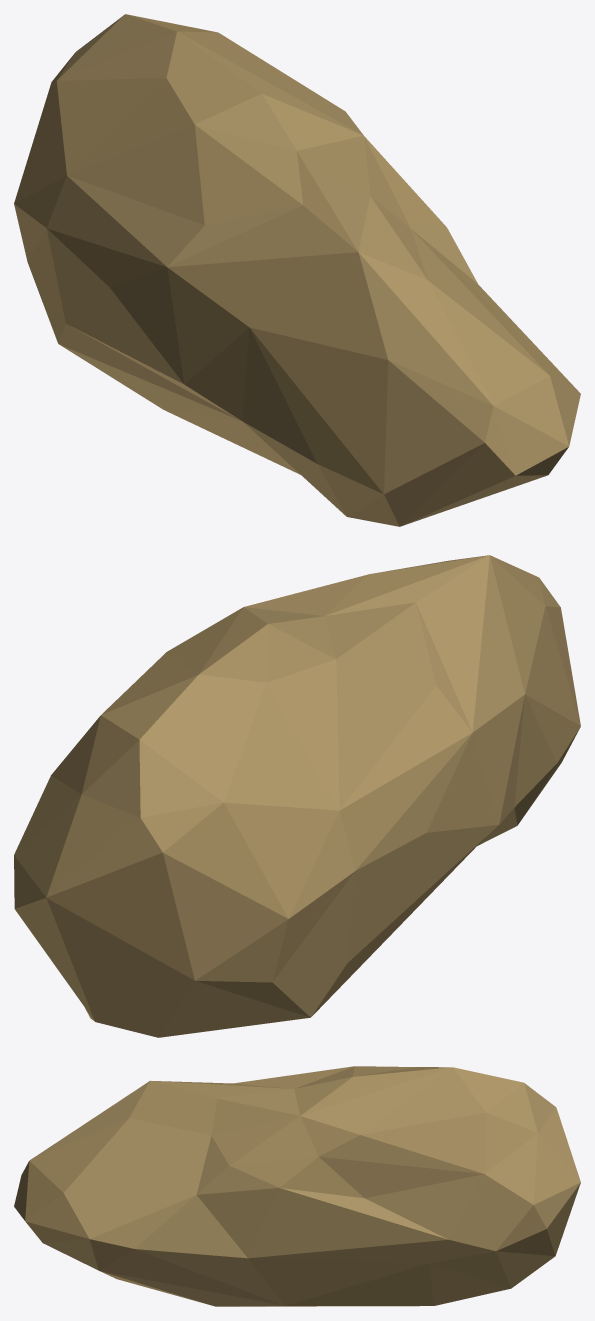
File: LargeRock.fbx
3 renders of one model, top to bottom at view 1: azimuth 30°, elevation 25°; view 2: azimuth 150°, elevation 25°; view 3: azimuth 270°, elevation 25°, orthographic. The views are drawn at different scales.
Parts seen in each view (by area): view 1: pPlatonic13; view 2: pPlatonic13; view 3: pPlatonic13.
Part boxes in pixels (box(x1,y1,x2,y2)): pPlatonic13: box(14, 14, 580, 526); pPlatonic13: box(14, 555, 580, 1037); pPlatonic13: box(14, 1066, 580, 1306).
Size of the model in its own units: 7.07 by 8.49 by 18.76.
